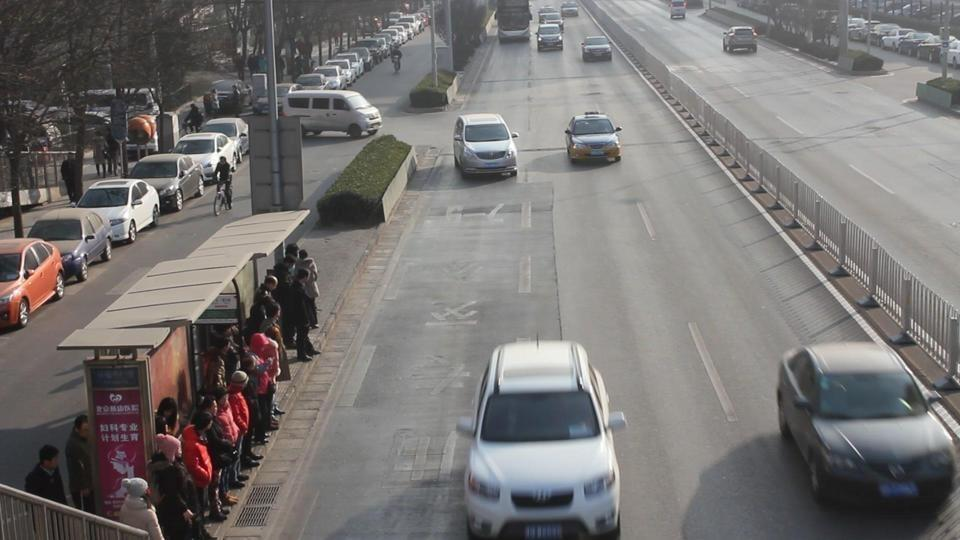car: (459, 339, 628, 538), (774, 340, 958, 511), (0, 236, 66, 333), (25, 211, 114, 282), (72, 178, 160, 245), (280, 89, 383, 139), (127, 154, 205, 213), (452, 112, 520, 179), (172, 130, 234, 180), (563, 114, 623, 164), (201, 119, 250, 162), (209, 79, 251, 115), (313, 62, 356, 88), (897, 32, 942, 55), (722, 26, 757, 54), (535, 20, 564, 51), (580, 34, 612, 62), (669, 0, 687, 20), (560, 2, 579, 18)
